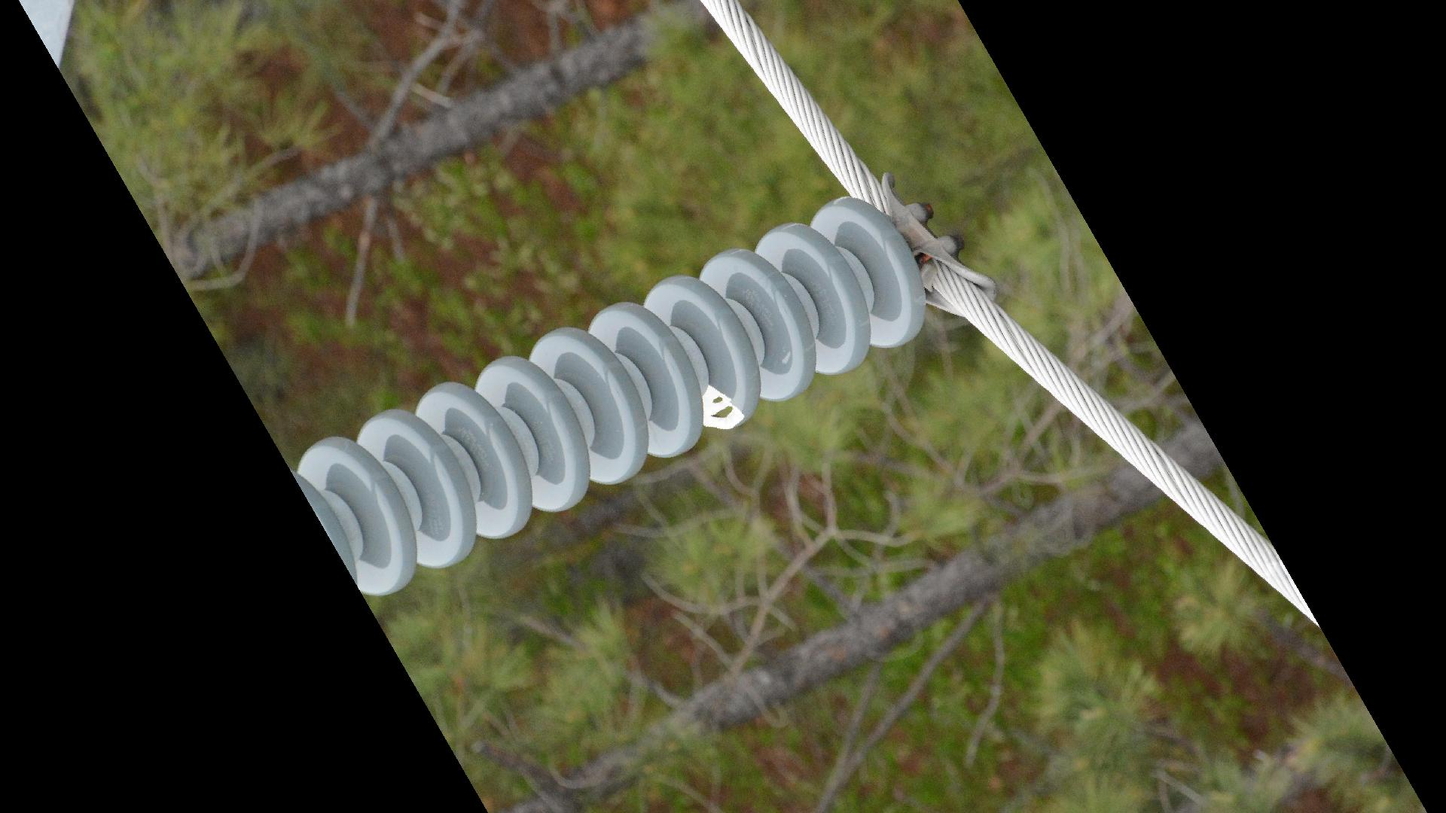insulator: (279, 190, 936, 604)
insulator_breakage: (697, 379, 756, 438)
